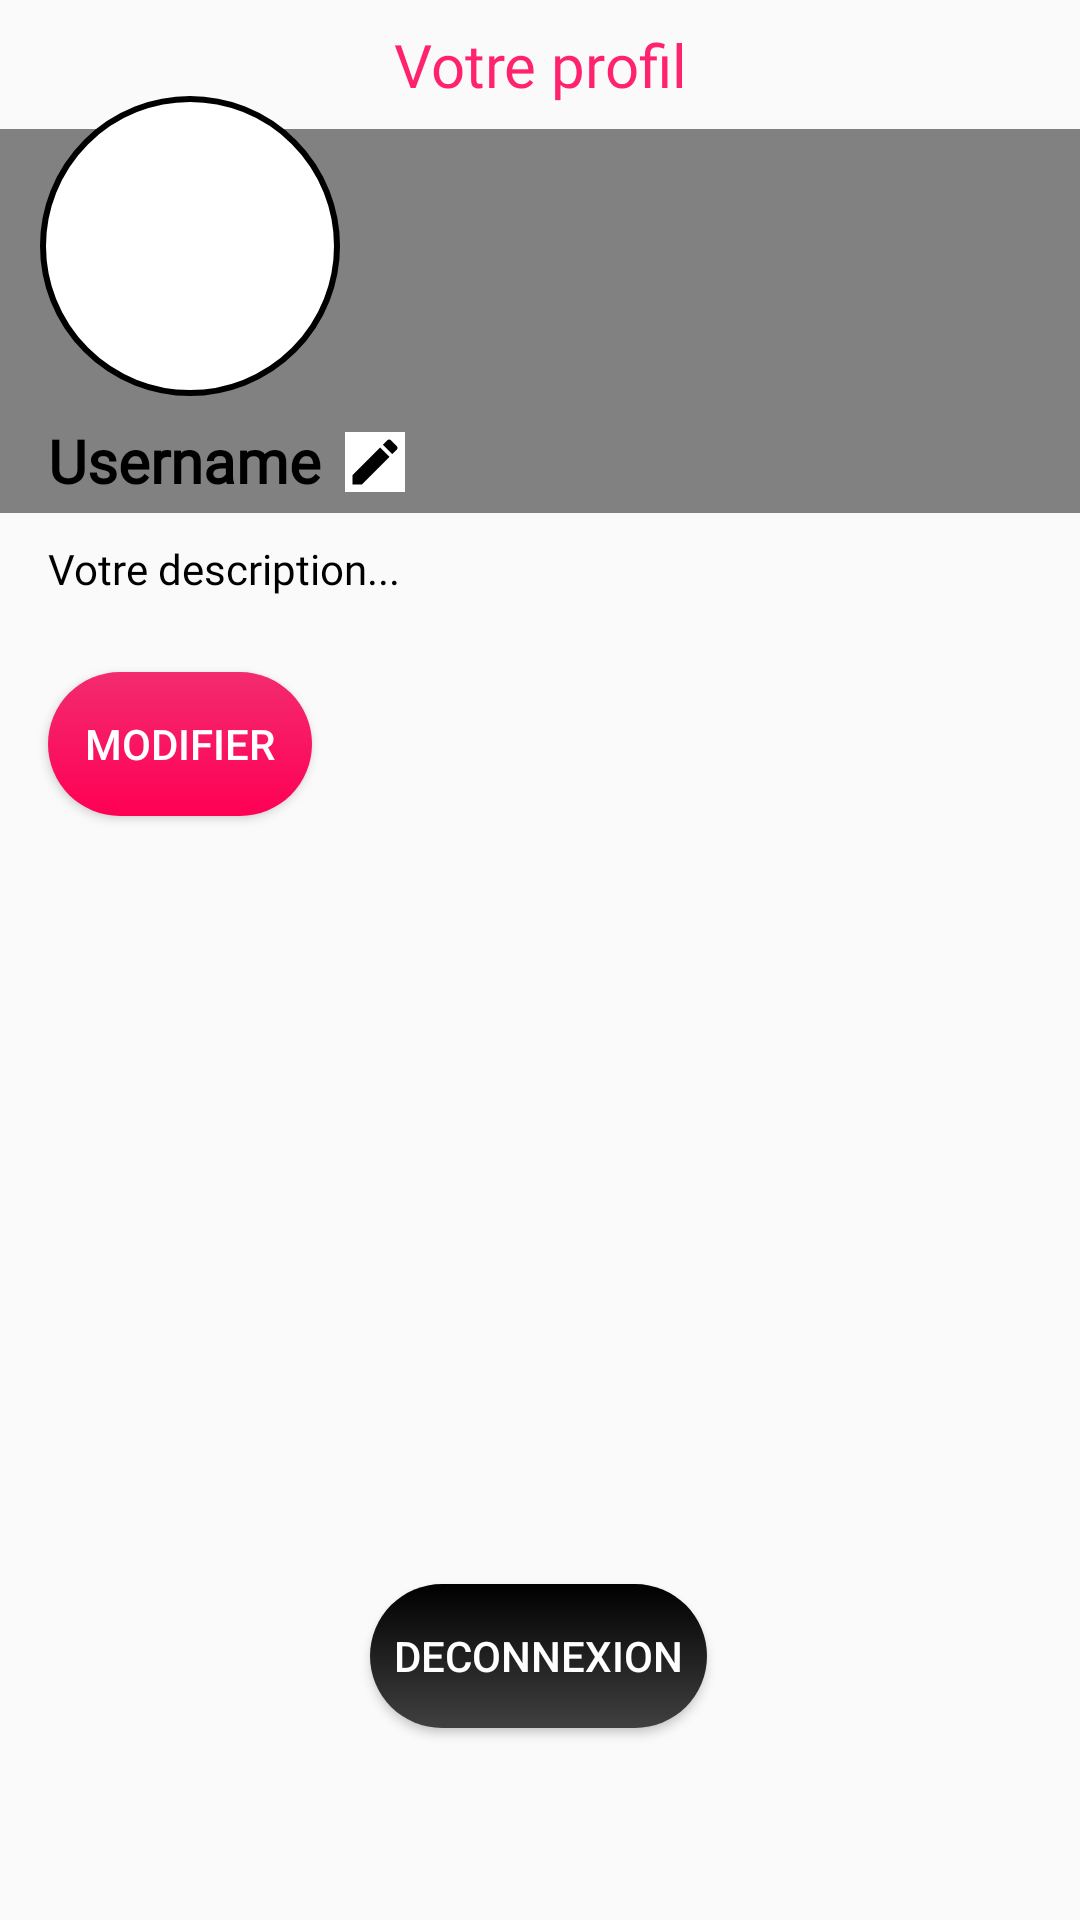

Locate icon controls on the screen. Image size 1080px x 1920px, boxes as Rect(x1, y1, x2, y2).
edit: Rect(345, 432, 405, 492)
